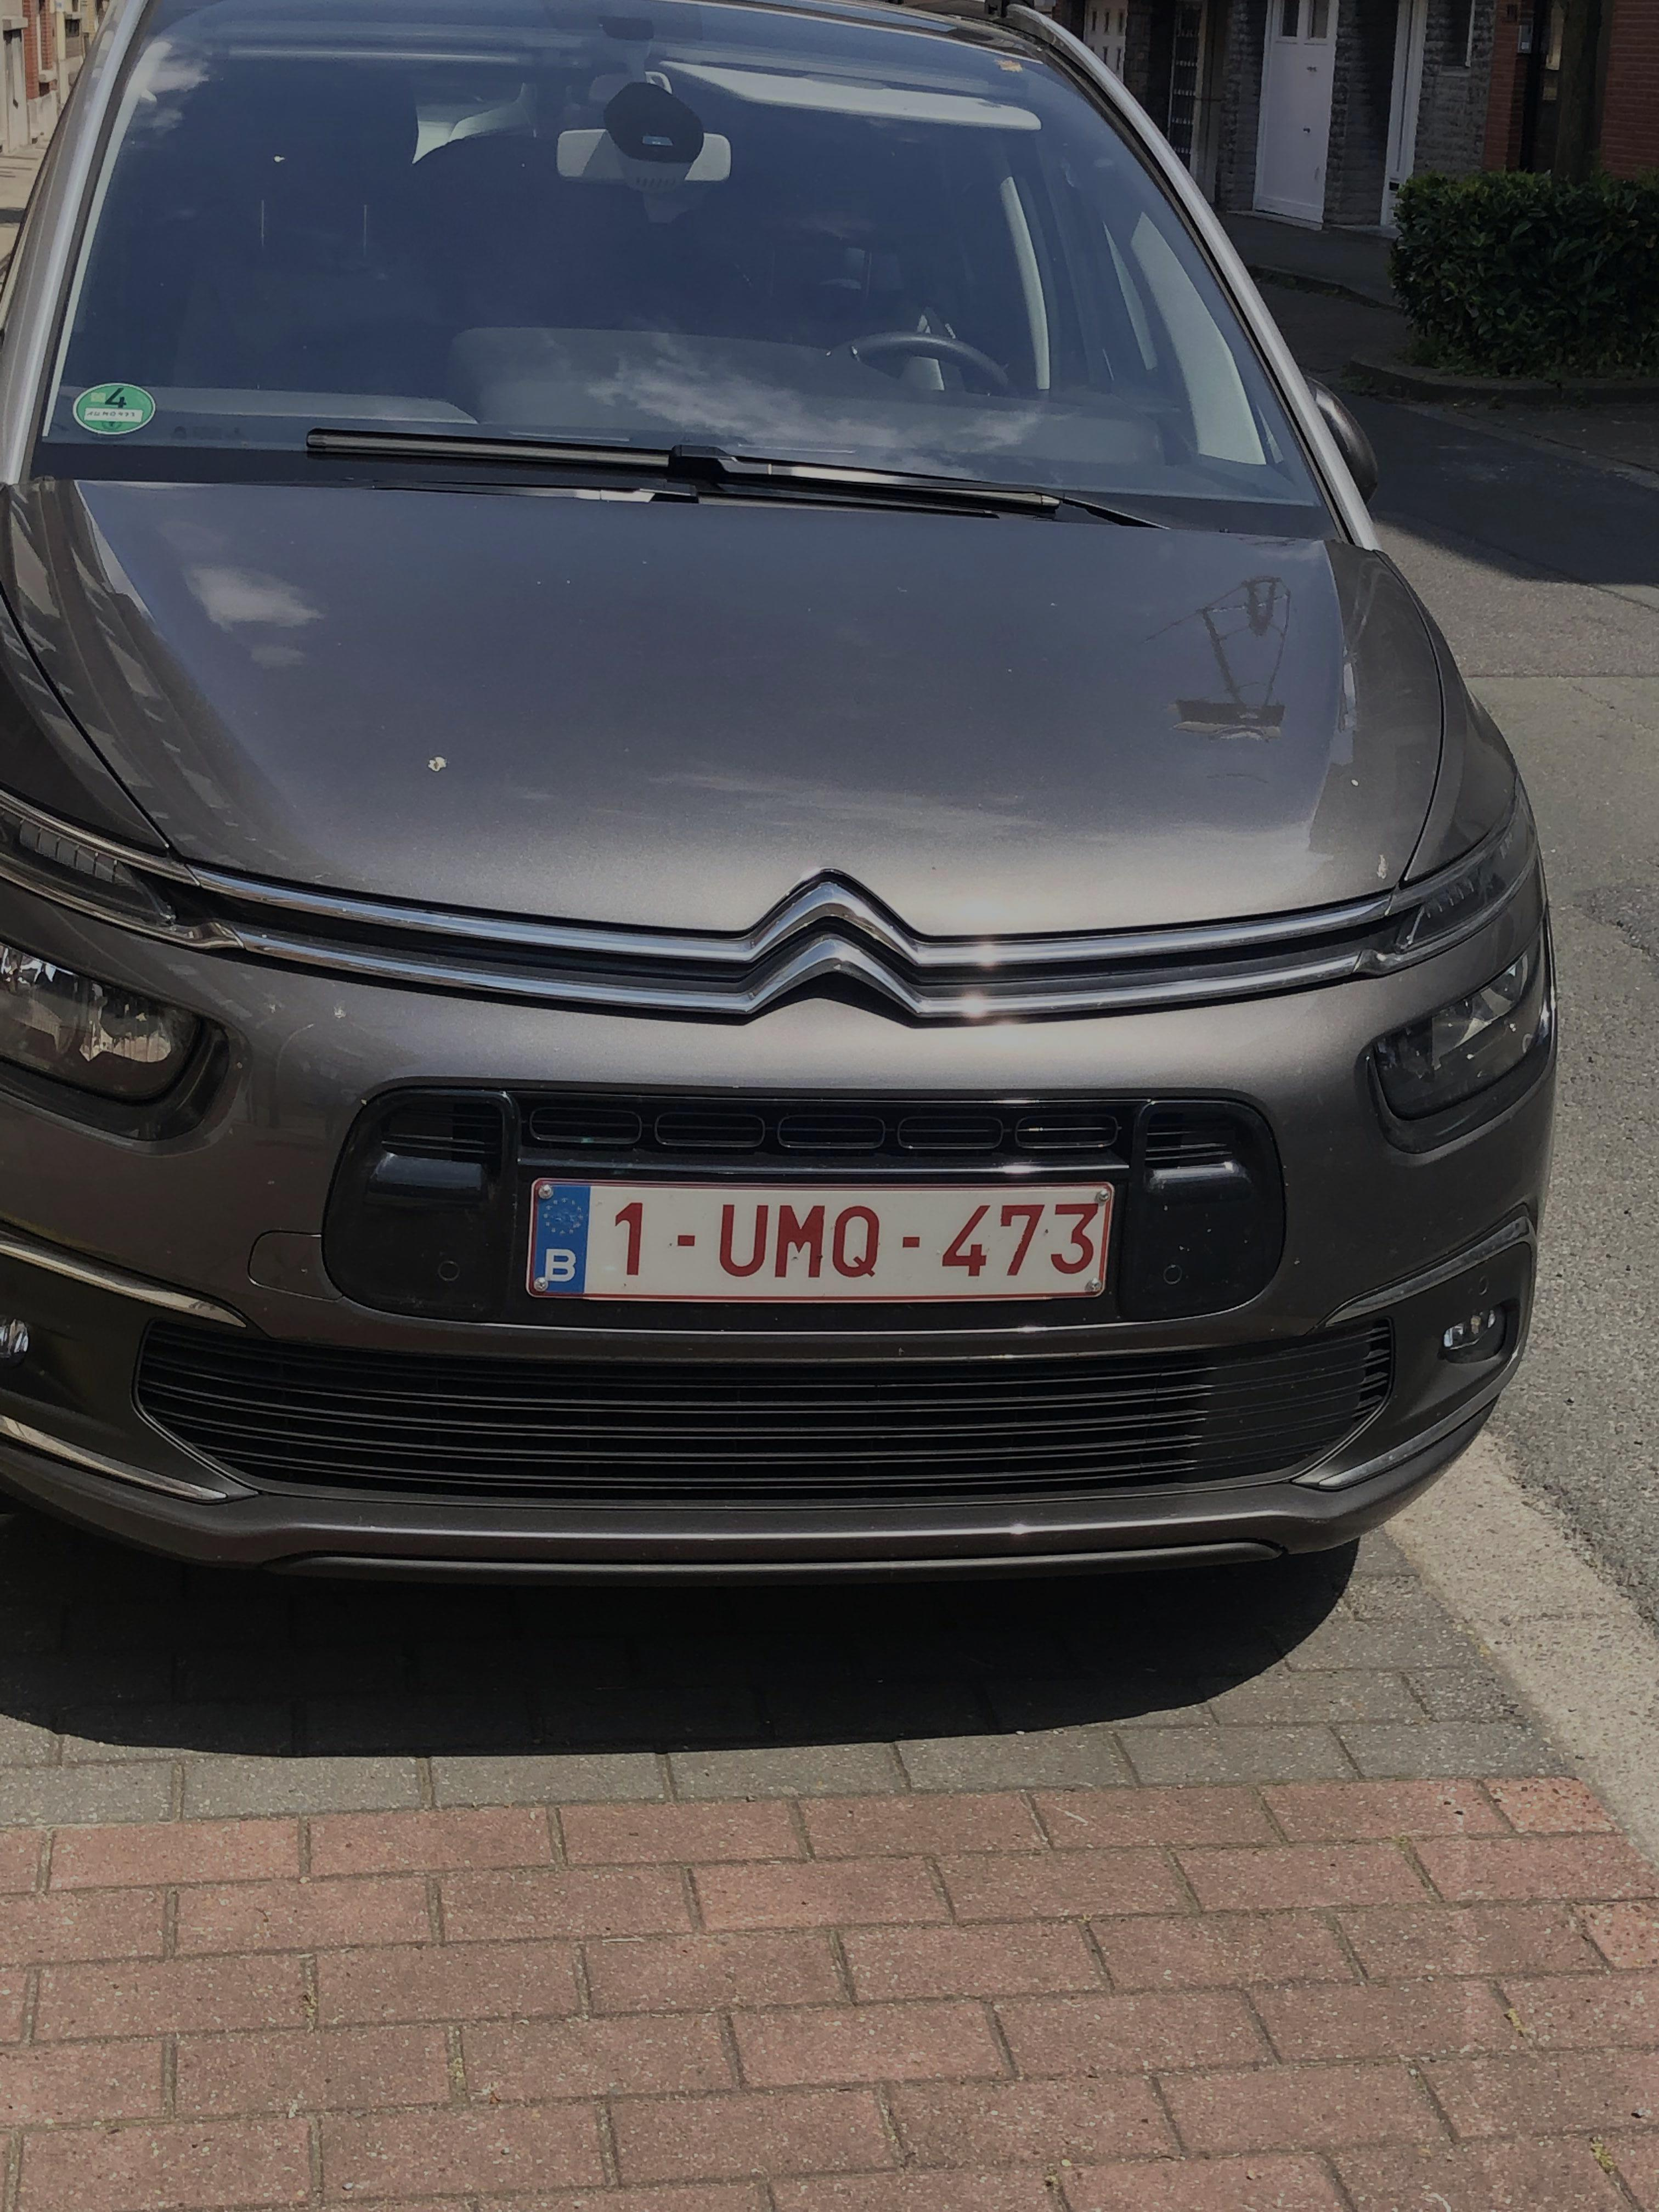plate: (496, 1153, 1135, 1317)
